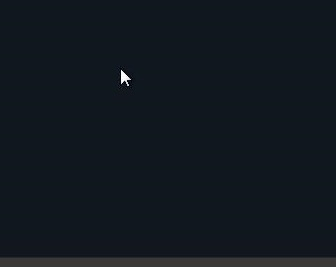cursor: (119, 68, 133, 87)
